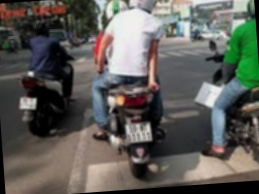Bien-so: (126, 121, 153, 145), (19, 96, 38, 111)
